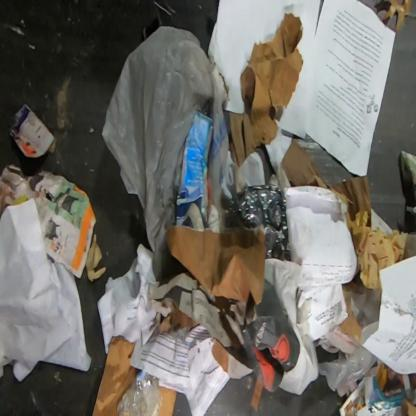cardboard: (281, 136, 371, 233), (240, 12, 304, 147), (164, 223, 266, 305), (92, 335, 142, 416), (7, 104, 58, 158), (229, 110, 257, 167), (158, 386, 178, 415), (400, 395, 415, 415)
rigid_plastic: (220, 184, 293, 261), (116, 369, 164, 415)
soft_plastic: (101, 24, 230, 280), (318, 344, 378, 391)
